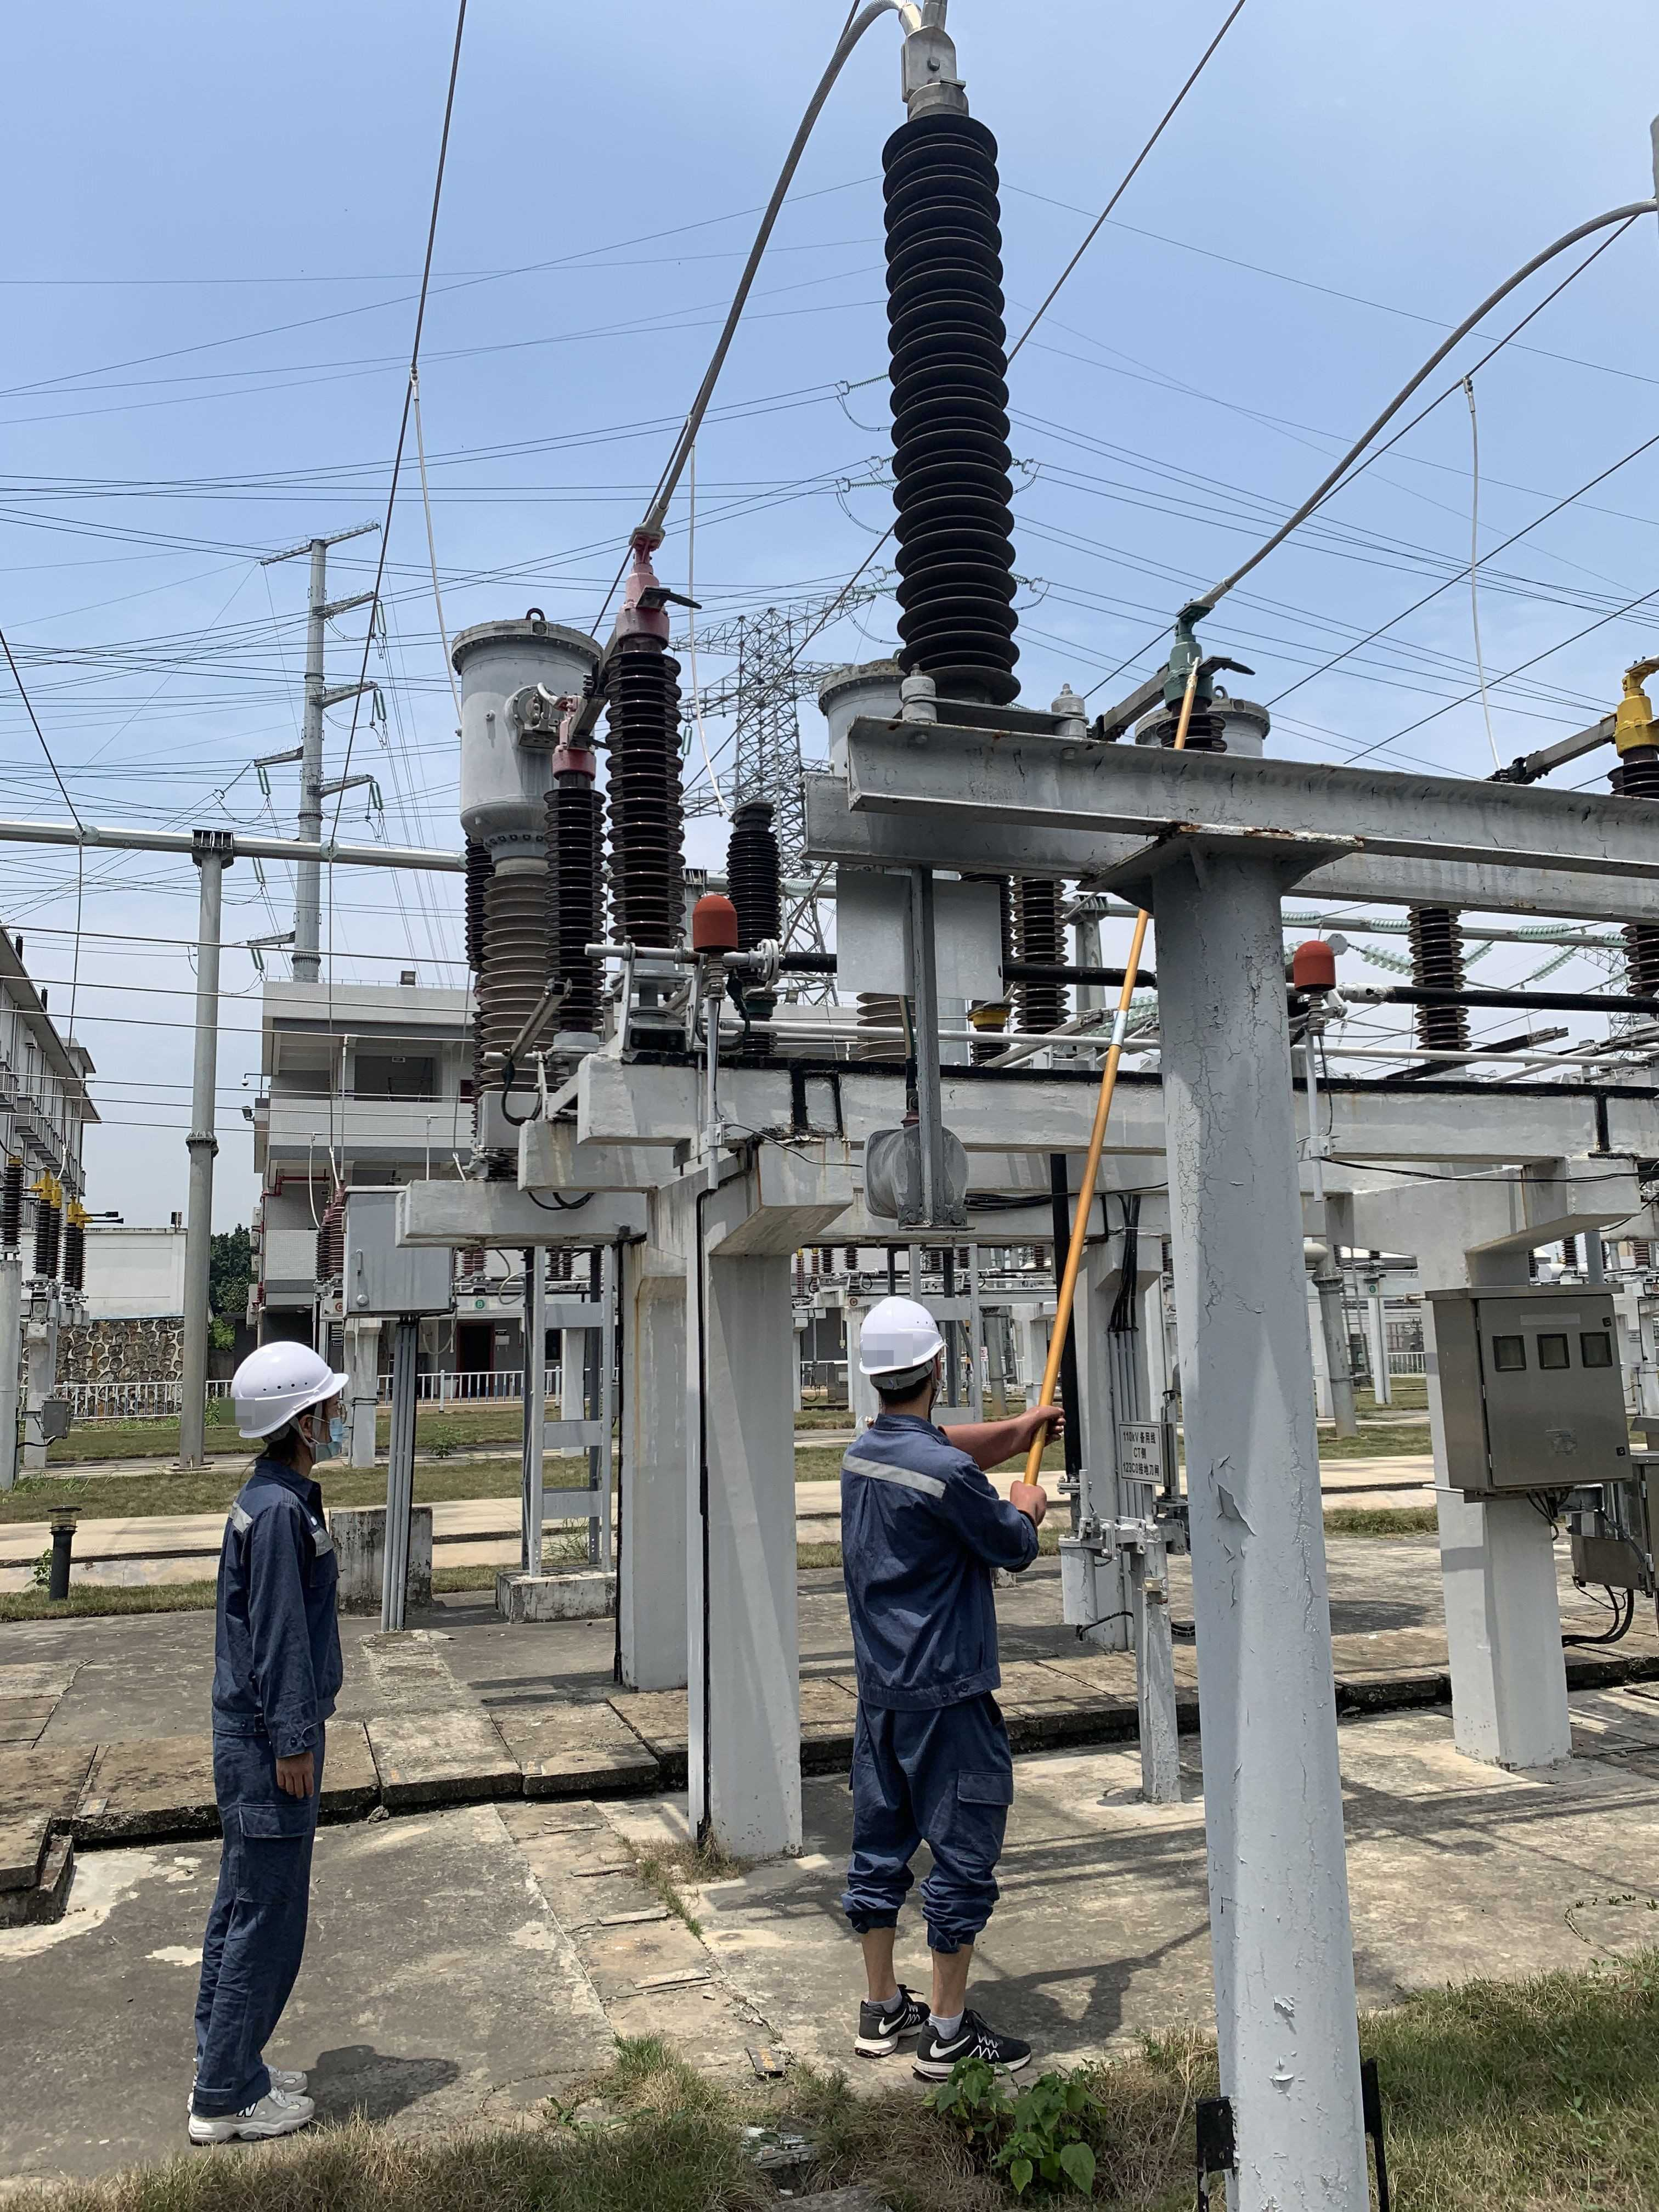downsuit: (200, 1768, 321, 2109), (842, 1719, 1018, 1940)
upsuit: (835, 1418, 1042, 1698), (202, 1470, 349, 1754)
wrongbottom: (847, 1892, 992, 2022)
